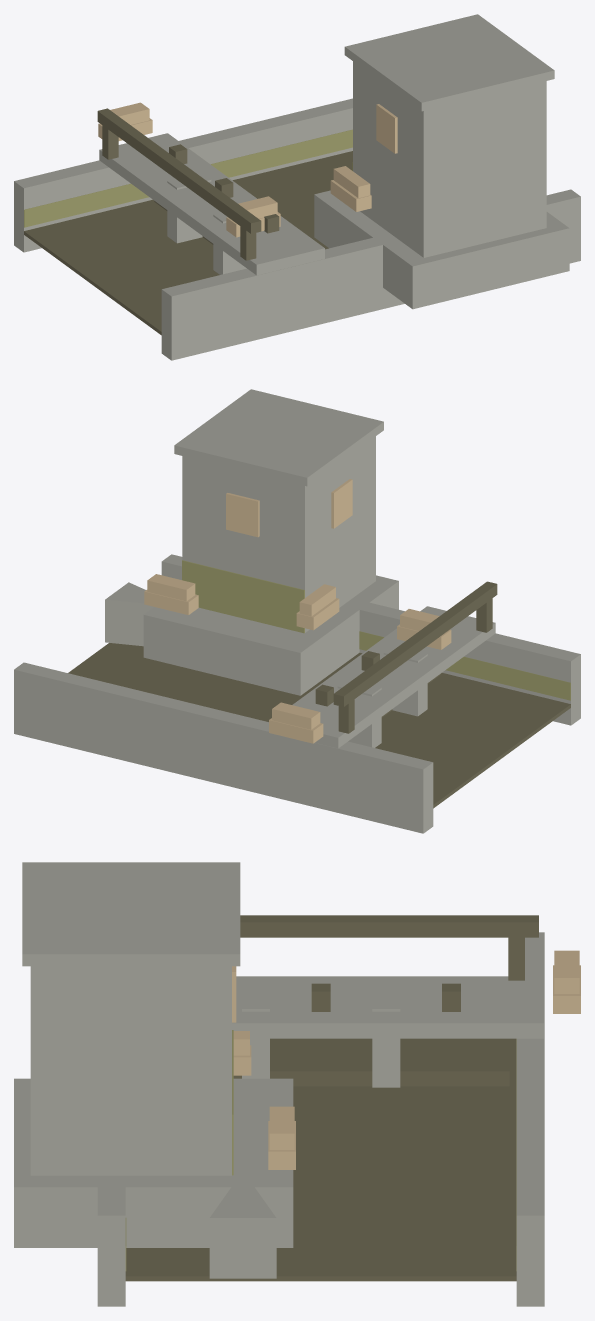
File: SM_CasetaCompuertas_v4_Fortificada_LOD1.fbx
3 renders of one model, top to bottom at view 1: azimuth 30°, elevation 25°; view 2: azimuth 150°, elevation 25°; view 3: azimuth 270°, elevation 25°, orthographic. The views are drawn at different scales.
Parts seen in each view (by area): view 1: SM_bloques.caseta_compuertas_v4_LOD1; view 2: SM_bloques.caseta_compuertas_v4_LOD1; view 3: SM_bloques.caseta_compuertas_v4_LOD1.
Boxes of the visible parts, x1,y1,x2,y2 form: SM_bloques.caseta_compuertas_v4_LOD1: [14, 14, 580, 360]; SM_bloques.caseta_compuertas_v4_LOD1: [14, 389, 580, 833]; SM_bloques.caseta_compuertas_v4_LOD1: [14, 862, 580, 1306].
Size of the model in its own units: 12.1 by 6.24 by 10.15.
